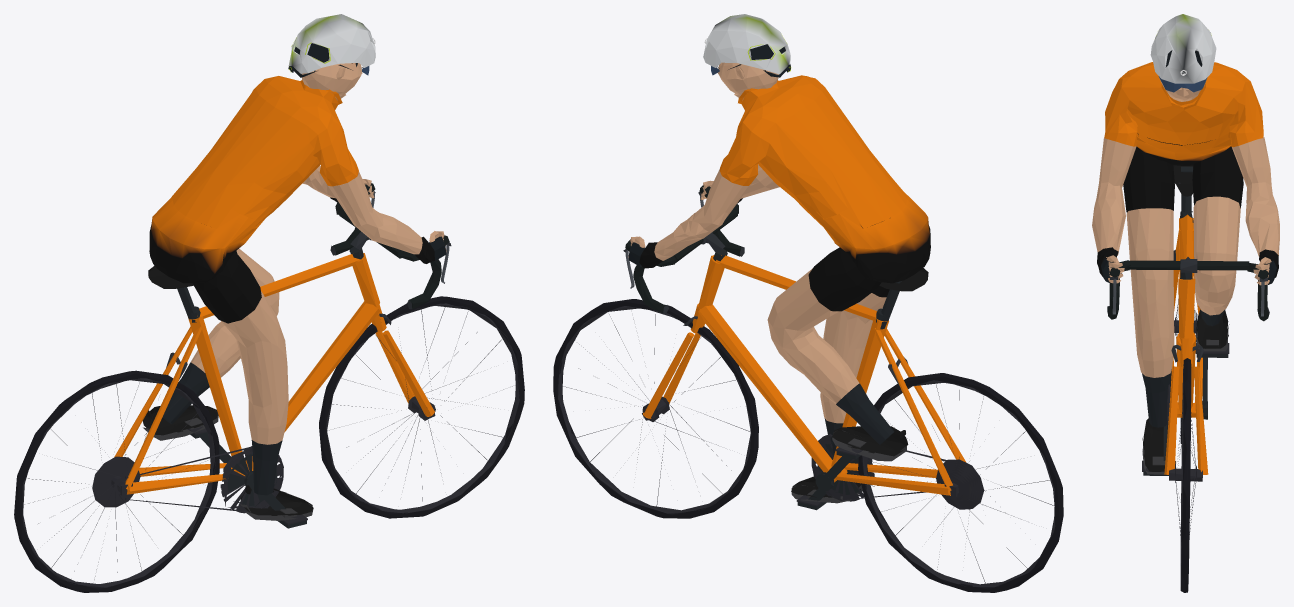
Rendered from rider-lod2.glb.
3 views of the same model, side by side, from view 1: azimuth 30°, elevation 25°; view 2: azimuth 150°, elevation 25°; view 3: azimuth 270°, elevation 25° (orthographic).
Parts seen in each view (by area): view 1: P79_LOD2; view 2: P79_LOD2; view 3: P79_LOD2.
Part boxes in pixels (x1=…): P79_LOD2: x1=14, y1=14, x2=524, y2=592; P79_LOD2: x1=553, y1=14, x2=1063, y2=592; P79_LOD2: x1=1092, y1=14, x2=1279, y2=592.
Bounding box in the file's own units: 1.67 × 1.63 × 0.5331.
